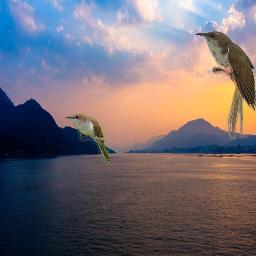Cuckoo: (195, 30, 256, 140), (65, 114, 110, 163)
